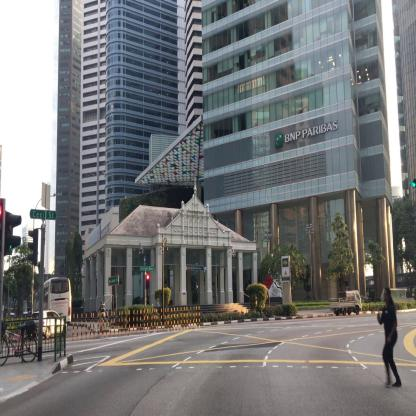red_traffic_light: (146, 274, 148, 290)
